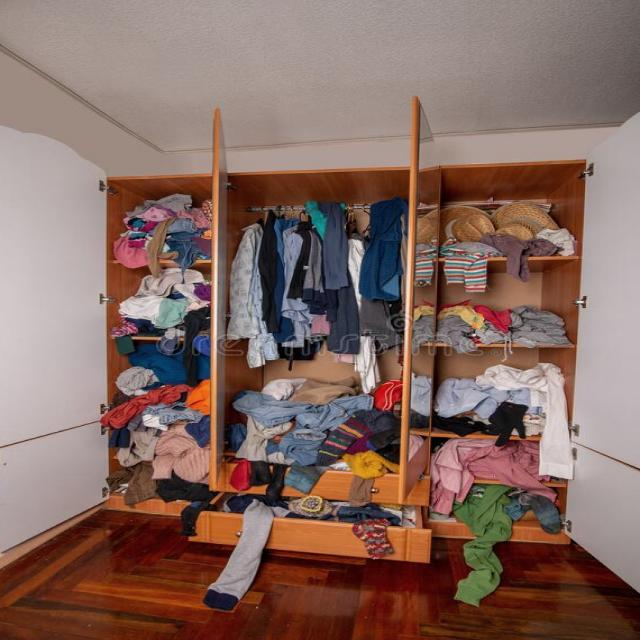clothes: (238, 218, 398, 526)
